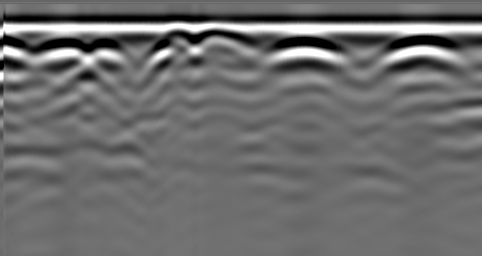pipe: (200, 23, 250, 48), (163, 24, 197, 51)
steel: (379, 35, 461, 67), (266, 36, 341, 65), (33, 36, 84, 64), (90, 37, 127, 71)
